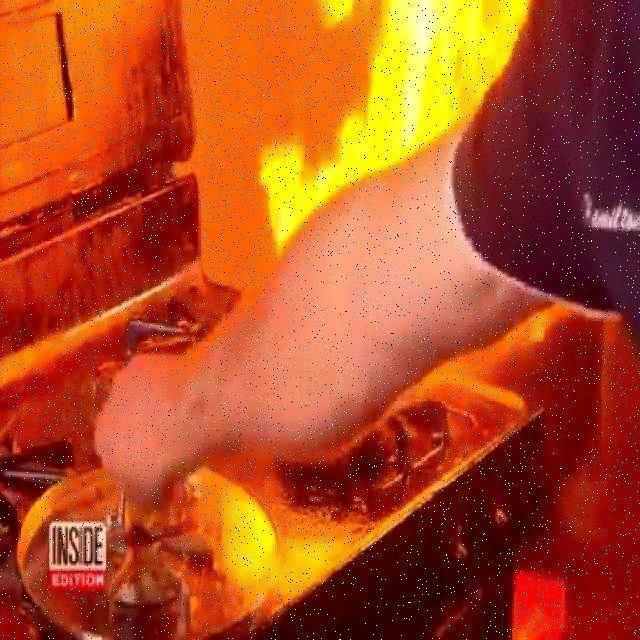fire: (261, 0, 528, 229), (164, 434, 334, 628)
